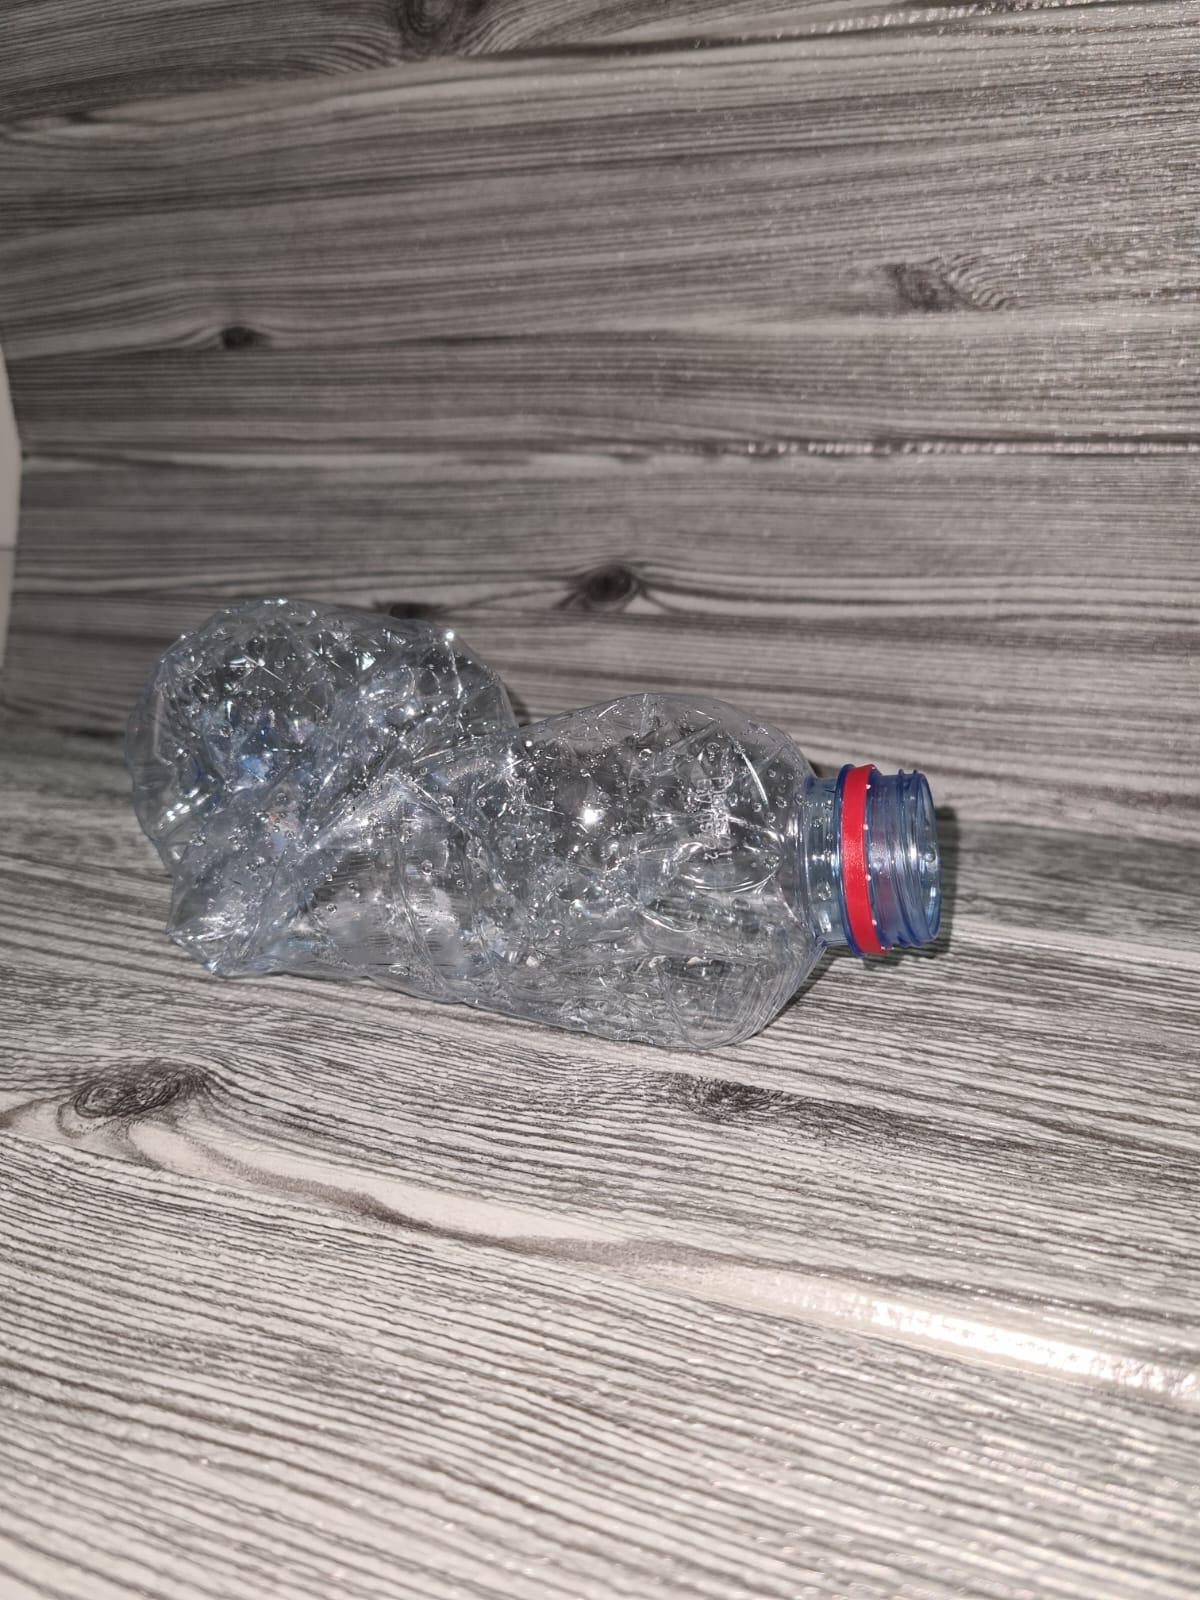bottle: (118, 593, 950, 1027)
